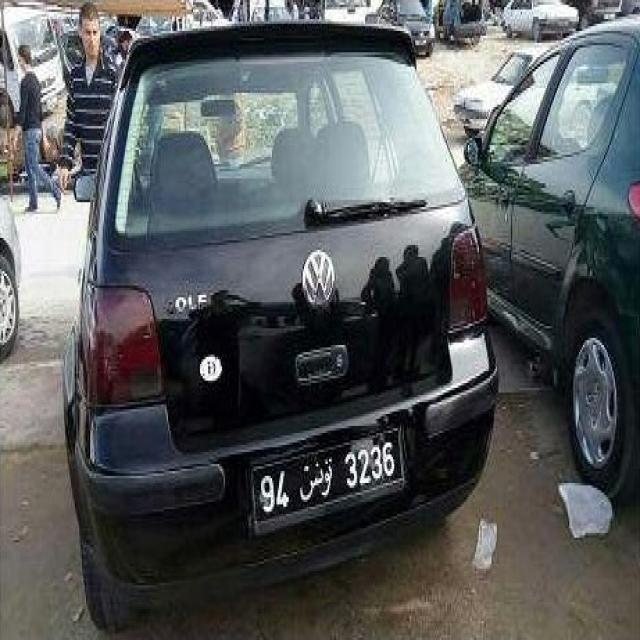licence plate: (254, 430, 402, 522)
